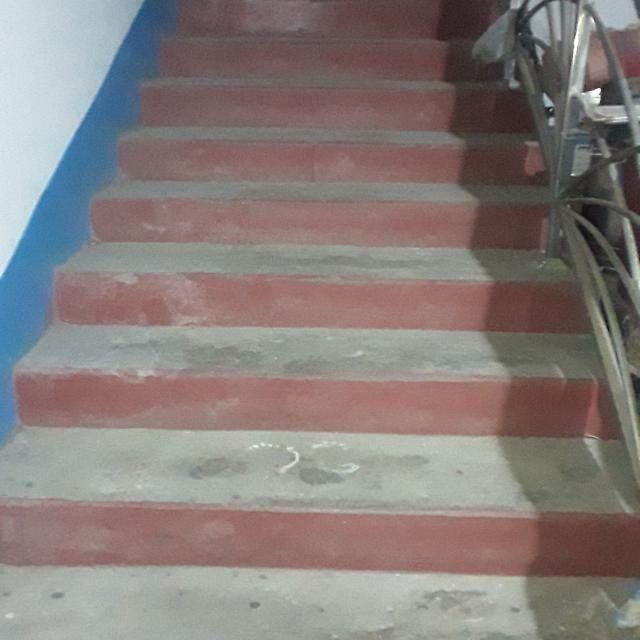Stairs: (70, 14, 621, 575)
